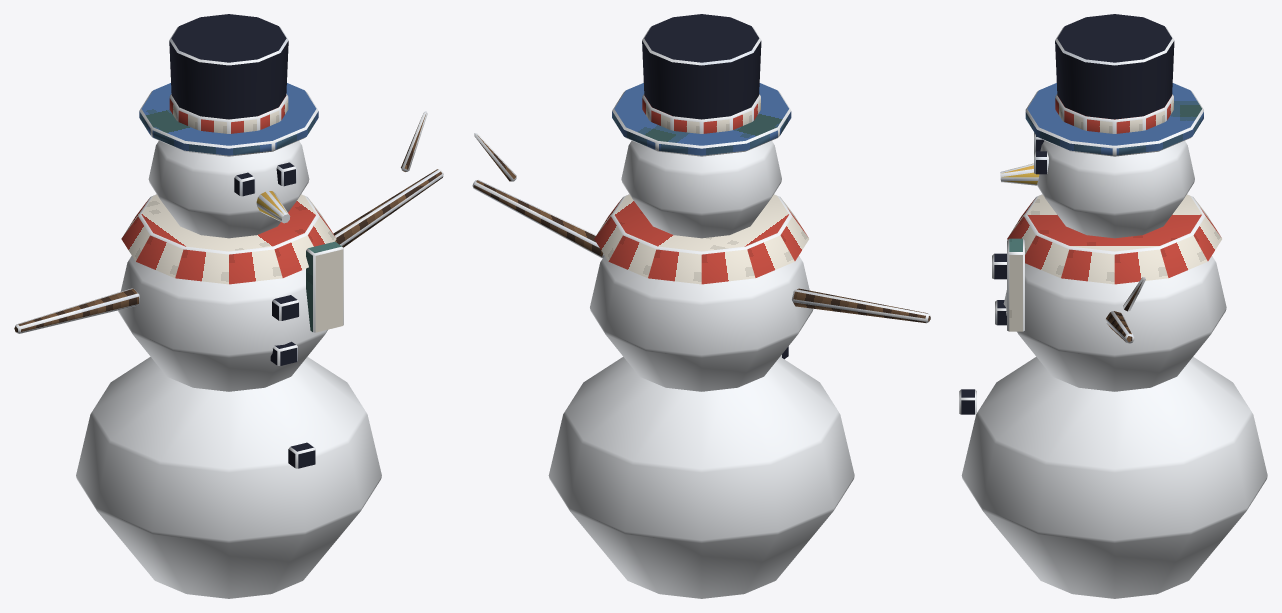
The model's file is spec_snowman_2.glb.
The picture shows the model from 3 angles, left to right: view 1: azimuth 30°, elevation 25°; view 2: azimuth 150°, elevation 25°; view 3: azimuth 270°, elevation 25°; orthographic projection.
Parts seen in each view (by area): view 1: spec_snowman_2; view 2: spec_snowman_2; view 3: spec_snowman_2.
Part boxes in pixels (left/top/right/bottom): spec_snowman_2: left=14, top=14, right=443, bottom=598; spec_snowman_2: left=472, top=14, right=930, bottom=598; spec_snowman_2: left=959, top=14, right=1267, bottom=598.
Bounding box in the file's own units: 1.7 × 1.94 × 1.03.
Materials: 7 (7 with a texture image).
